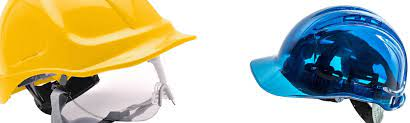Helmet: (2, 1, 190, 123), (252, 14, 406, 123)
